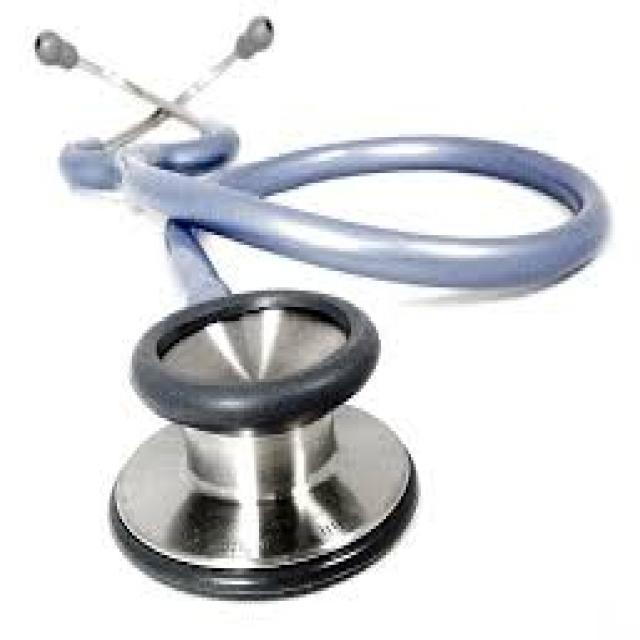stethoscope: (19, 16, 607, 604)
